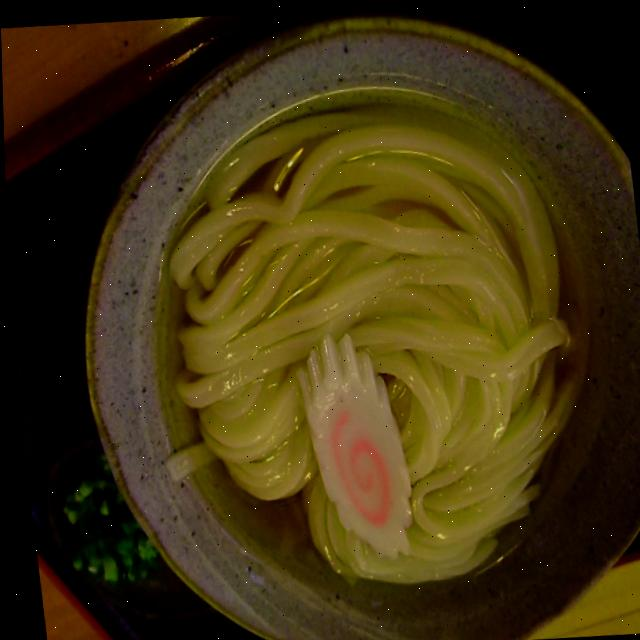面条主食: (97, 10, 640, 640)
